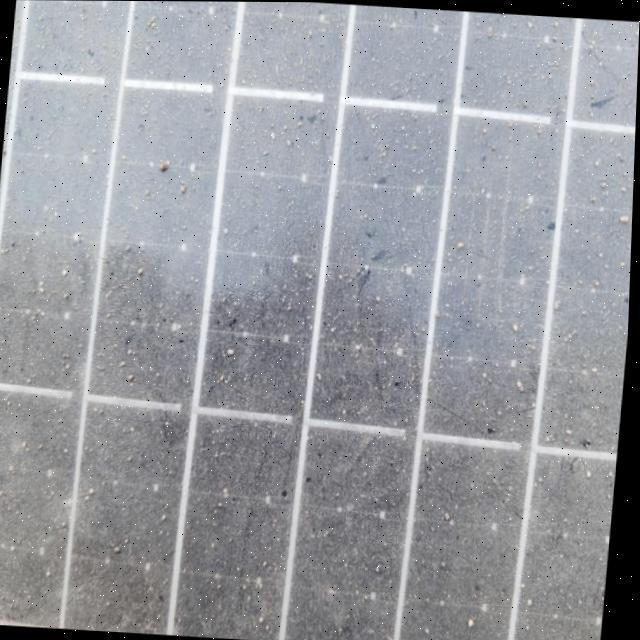Surface Contaminant: (0, 15, 639, 640)
